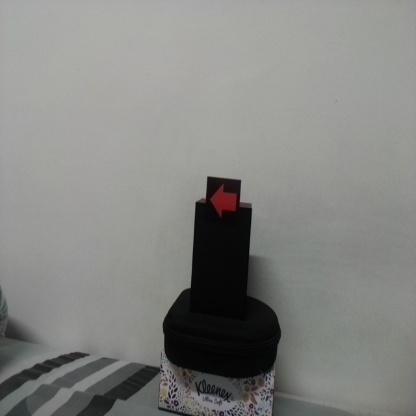id_4: (206, 178, 241, 226)
